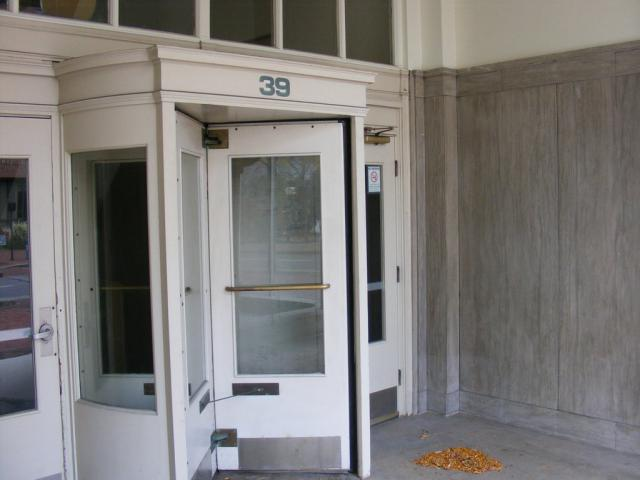Door-handle: (32, 307, 54, 356), (225, 282, 330, 292)
